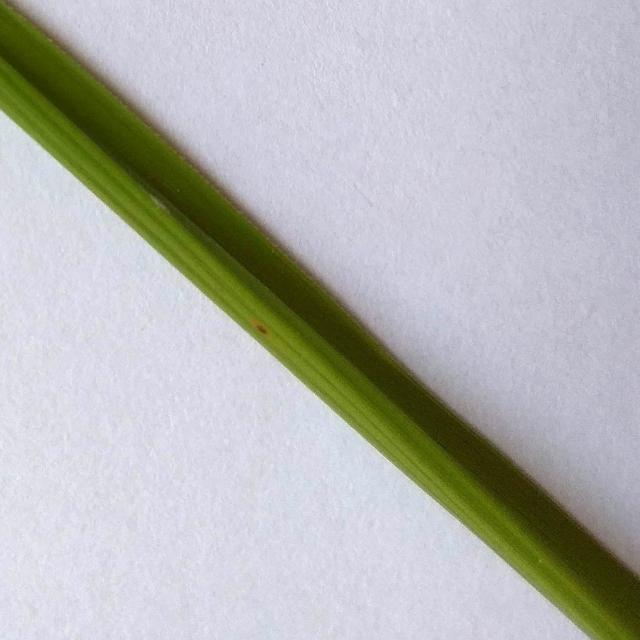brownspots: (251, 314, 278, 340)
